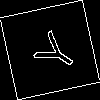Y: (25, 25, 81, 77)
